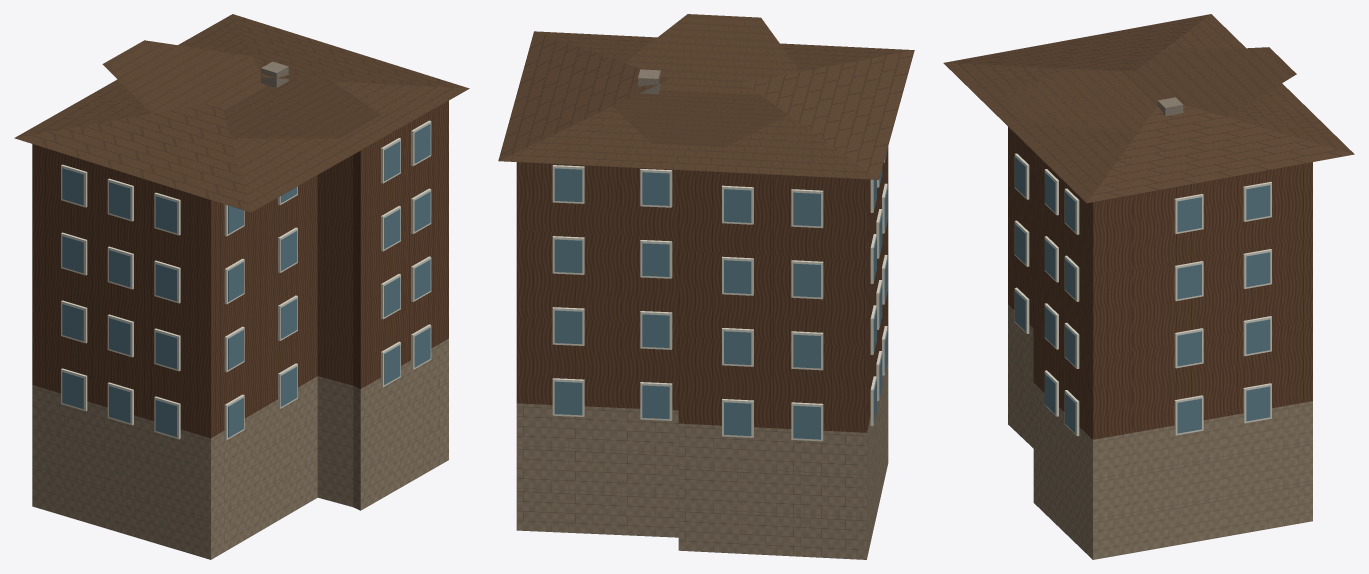
The model's file is core_0089.gltf.
3 views of the same model, side by side, from view 1: azimuth 30°, elevation 25°; view 2: azimuth 150°, elevation 25°; view 3: azimuth 270°, elevation 25° (orthographic). The views are drawn at different scales.
Parts seen in each view (by area): view 1: core_0089; view 2: core_0089; view 3: core_0089.
Part boxes in pixels (x1=…): core_0089: x1=14, y1=14, x2=469, y2=559; core_0089: x1=498, y1=14, x2=914, y2=559; core_0089: x1=943, y1=14, x2=1354, y2=559.
Bounding box in the file's own units: 17.24 × 16.65 × 15.84.
6 materials, 6 textured.
